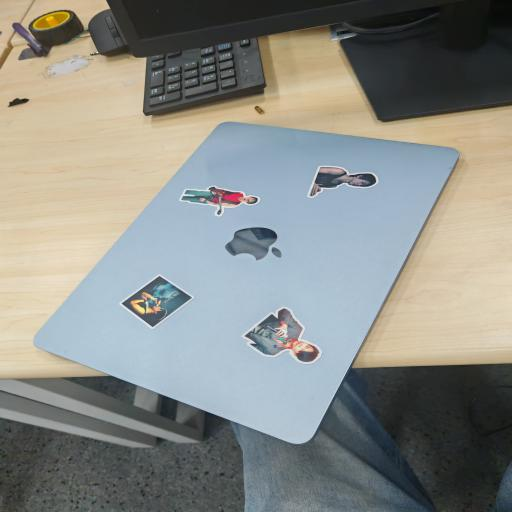laptop: (34, 123, 458, 443)
mouse: (88, 9, 130, 56)
